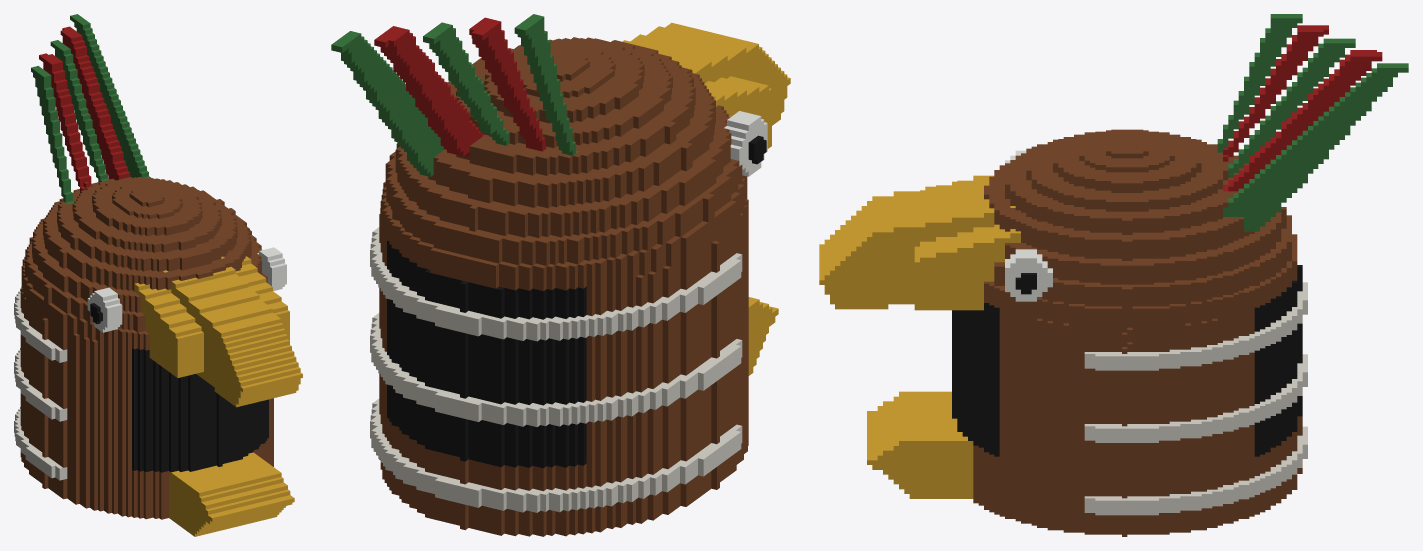
The model's file is helmet_aztec.glb.
3 views of the same model, side by side, from view 1: azimuth 30°, elevation 25°; view 2: azimuth 150°, elevation 25°; view 3: azimuth 270°, elevation 25° (orthographic). The views are drawn at different scales.
Parts seen in each view (by area): view 1: helmet_aztec:compound; view 2: helmet_aztec:compound; view 3: helmet_aztec:compound.
Part boxes in pixels (x1,y1,x2,y2): helmet_aztec:compound: (14, 14, 302, 536); helmet_aztec:compound: (331, 14, 790, 536); helmet_aztec:compound: (819, 14, 1408, 536).
Bounding box in the file's own units: 0.232 × 0.36 × 0.444.
